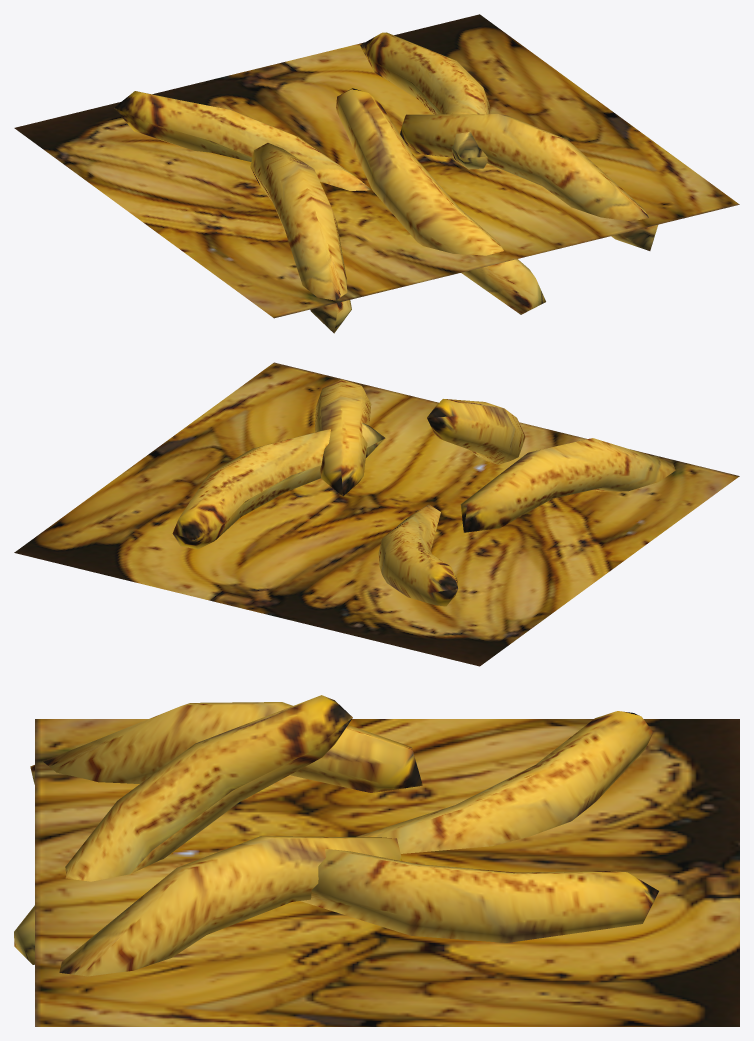
File: banana.FBX
3 views of the same model, one above another, from view 1: azimuth 30°, elevation 25°; view 2: azimuth 150°, elevation 25°; view 3: azimuth 270°, elevation 25° (orthographic). The views are drawn at different scales.
Visible parts, largest first — view 1: banana; view 2: banana; view 3: banana.
Boxes of the visible parts, x1,y1,x2,y2 form: banana: [14, 14, 739, 333]; banana: [14, 362, 739, 666]; banana: [14, 695, 739, 1026].
Size of the model in its own units: 195 by 194 by 65.06.
